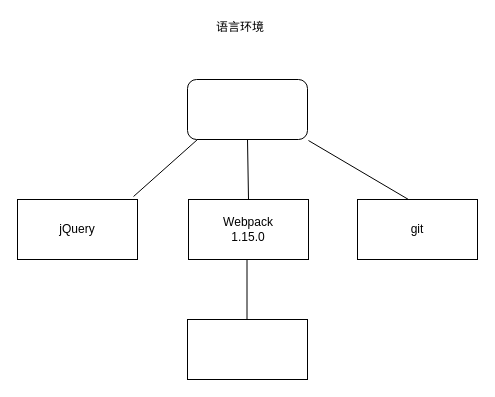
This 495x397 diagram has some shape labels left out. Here are the shapes that lost their labels. From the top down, the centre of each, then its label:
the point at 247,109: 用户端
the point at 247,349: Nodejs 6.12.3
